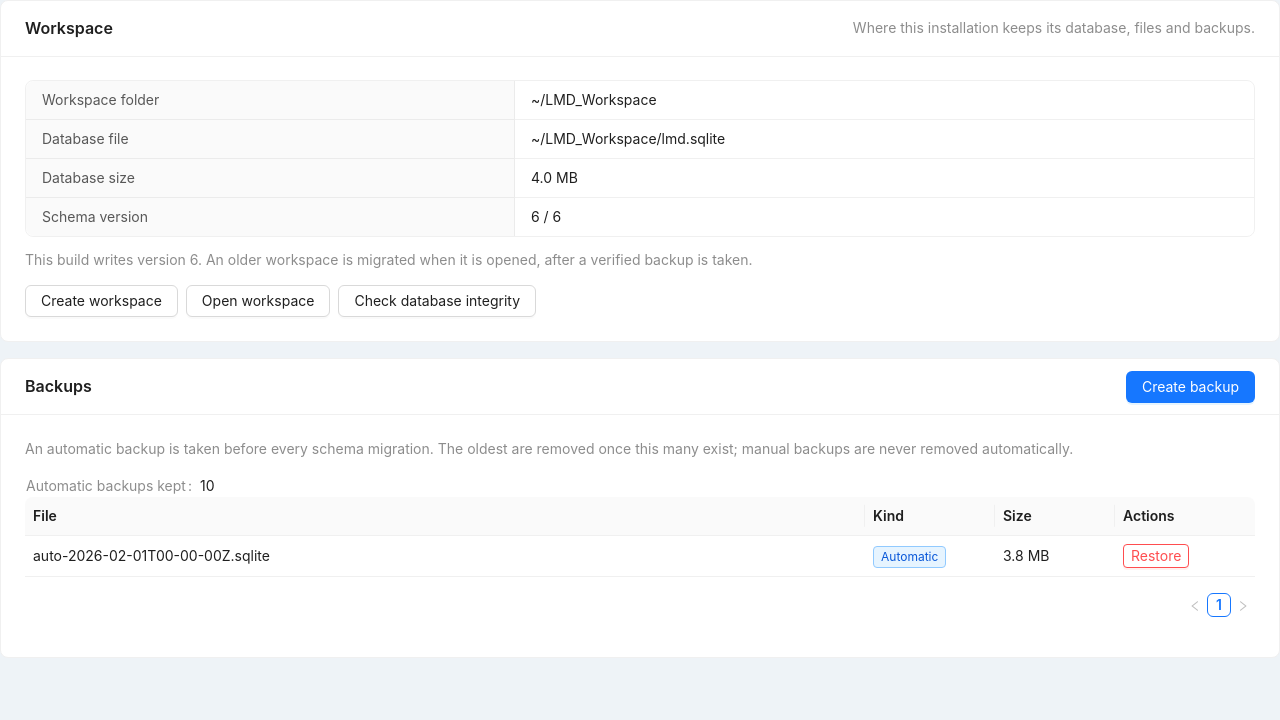
Test: workspace settings › offers a reload after a workspace switch rather than leaving stale records on screen
Expected: the text "~/LMD_Workspace/lmd.sqlite" is shown, x1=531 y1=130 x2=725 y2=147
Step 1. Click the button "Open workspace" → (258,301), box x1=186 y1=285 x2=330 y2=317
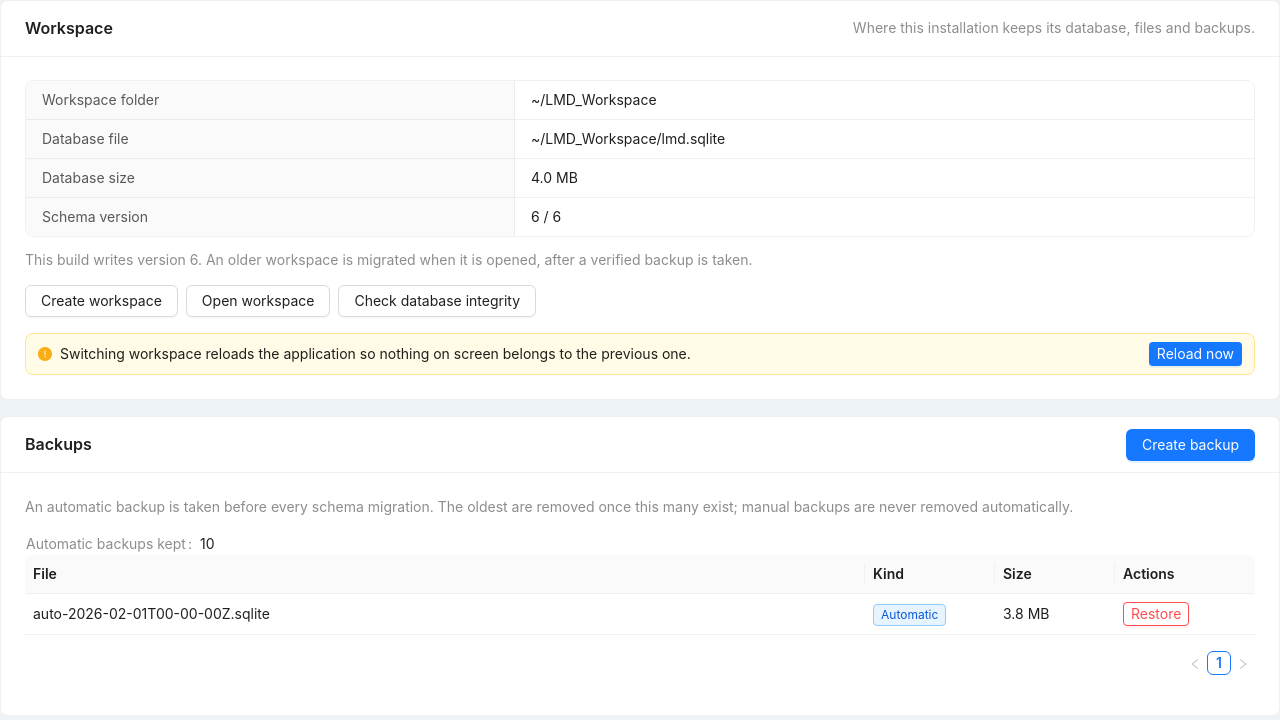
Result: the button "Reload now" is shown at x1=1149 y1=342 x2=1242 y2=366
